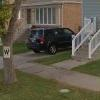Car: (25, 19, 79, 61)
